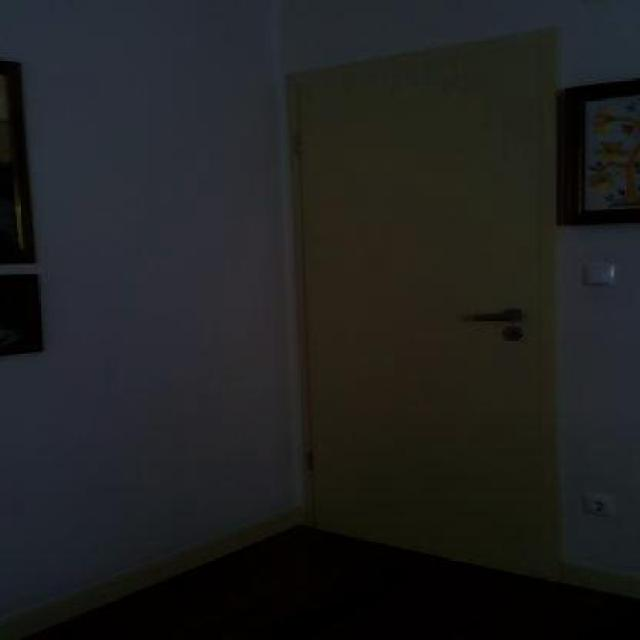door: (285, 24, 560, 582)
